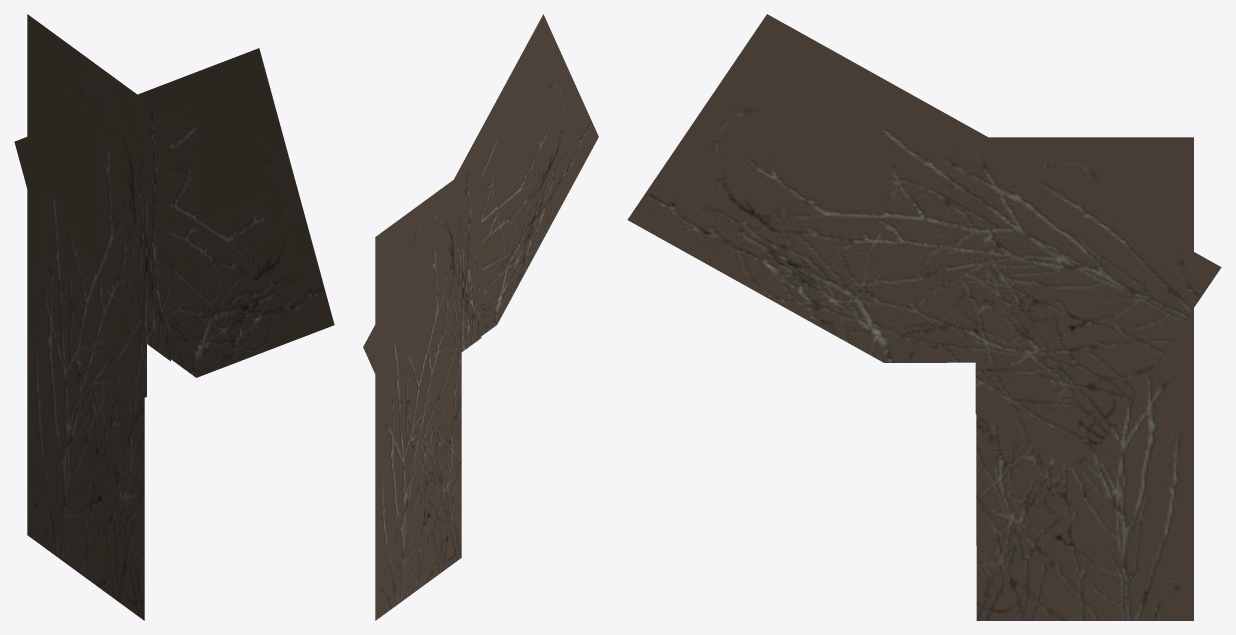
Rendered from prop_vinecorner02.glb.
3 views of the same model, side by side, from view 1: azimuth 30°, elevation 25°; view 2: azimuth 150°, elevation 25°; view 3: azimuth 270°, elevation 25° (orthographic). The views are drawn at different scales.
Size of the model in its own units: 0.5879 by 197 by 174.
1 material, 1 textured.
